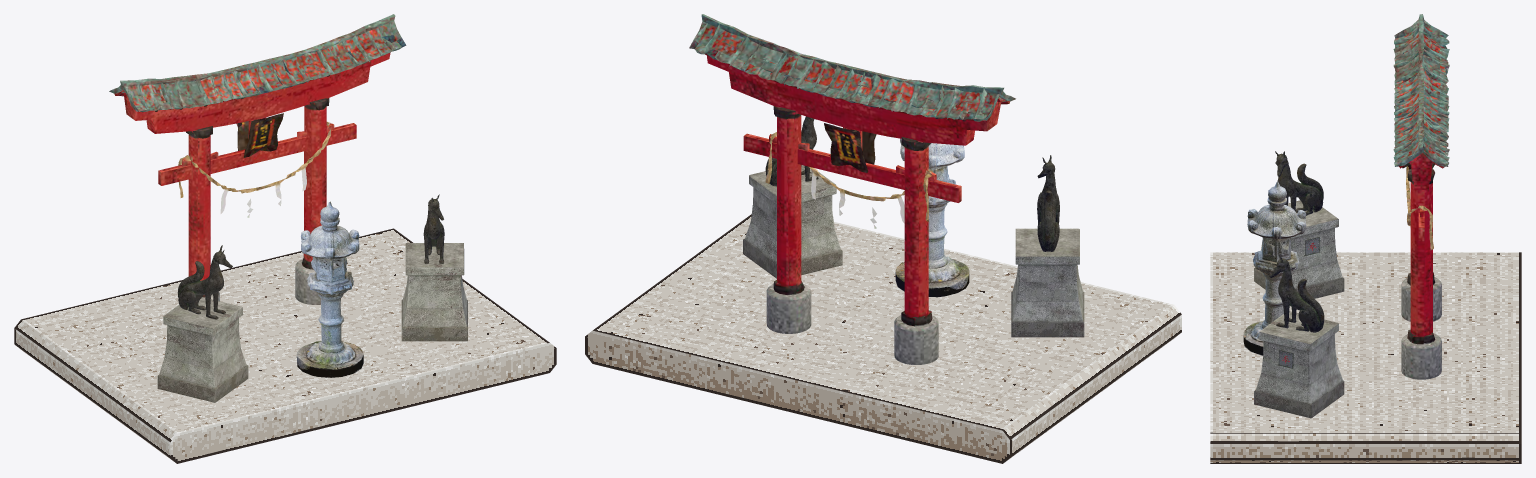
Rendered from jinja.glb.
3 renders of one model, left to right at view 1: azimuth 30°, elevation 25°; view 2: azimuth 150°, elevation 25°; view 3: azimuth 270°, elevation 25°, orthographic. The views are drawn at different scales.
Visible parts, largest first — view 1: base, model_gate, model_fox1, model_fox2, model_lamp; view 2: base, model_gate, model_fox1, model_fox2, model_lamp; view 3: base, model_gate, model_fox2, model_fox1, model_lamp.
Part boxes in pixels (left/top/right/bottom): base: left=14, top=228, right=556, bottom=463; model_gate: left=109, top=14, right=406, bottom=304; model_fox1: left=157, top=245, right=248, bottom=402; model_fox2: left=401, top=194, right=467, bottom=341; model_lamp: left=296, top=201, right=363, bottom=377; base: left=585, top=214, right=1181, bottom=463; model_gate: left=689, top=14, right=1015, bottom=364; model_fox1: left=1011, top=155, right=1084, bottom=337; model_fox2: left=743, top=116, right=842, bottom=278; model_lamp: left=895, top=138, right=969, bottom=297; base: left=1210, top=252, right=1521, bottom=463; model_gate: left=1393, top=14, right=1449, bottom=379; model_fox2: left=1254, top=253, right=1344, bottom=418; model_fox1: left=1254, top=151, right=1344, bottom=298; model_lamp: left=1243, top=181, right=1306, bottom=355.
Bounding box in the file's own units: 40 × 29 × 28.
Materials: 4 (4 with a texture image).
